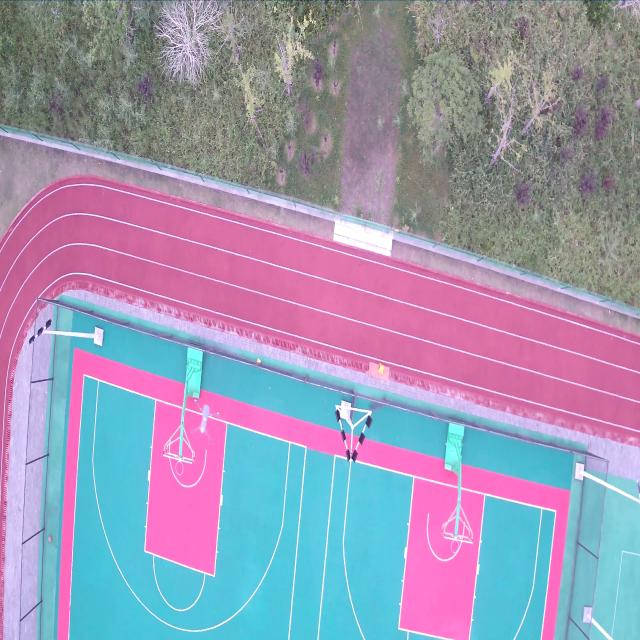UAV: (192, 398, 220, 442)
